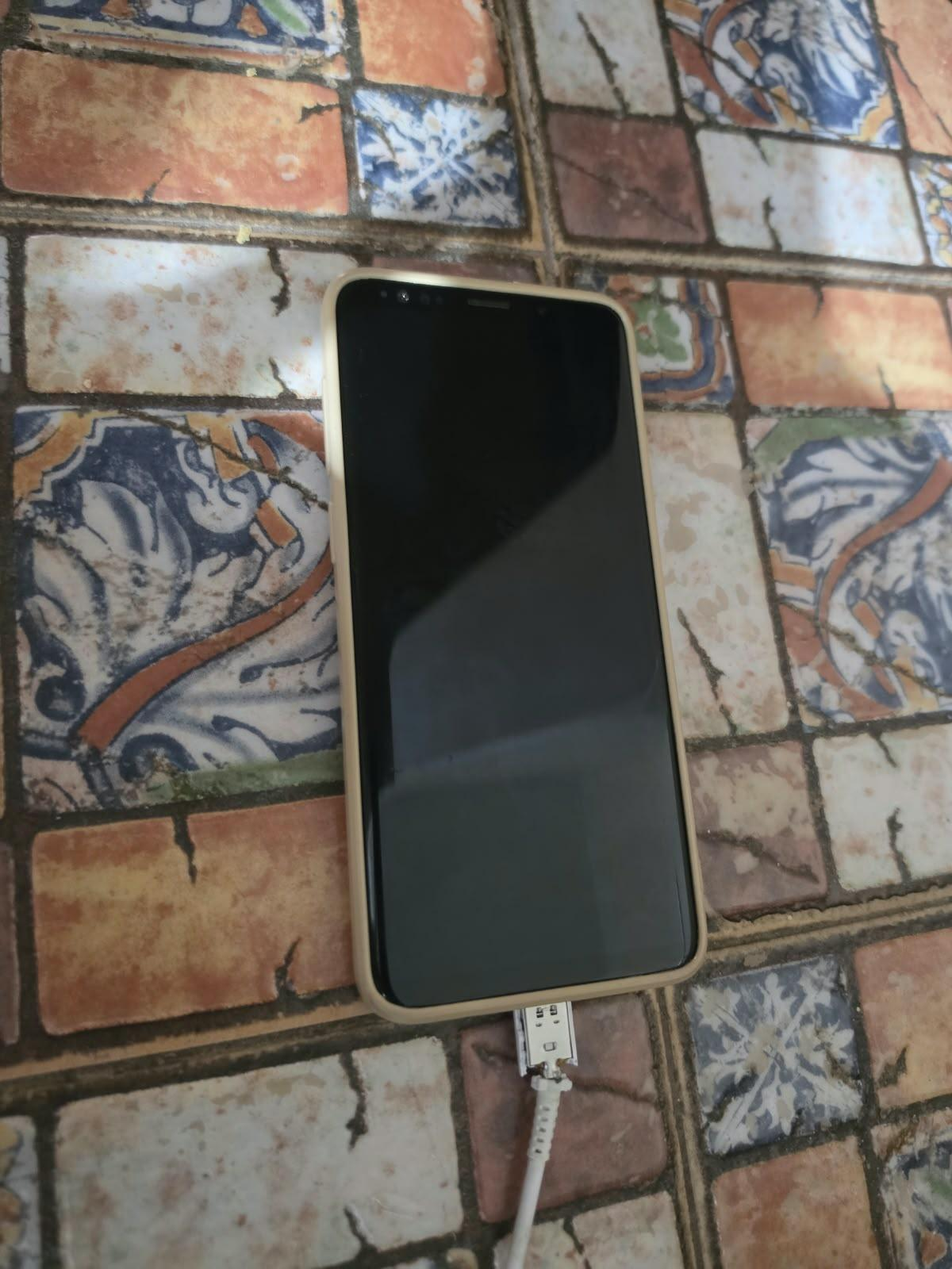smartphone: (319, 267, 708, 1026)
